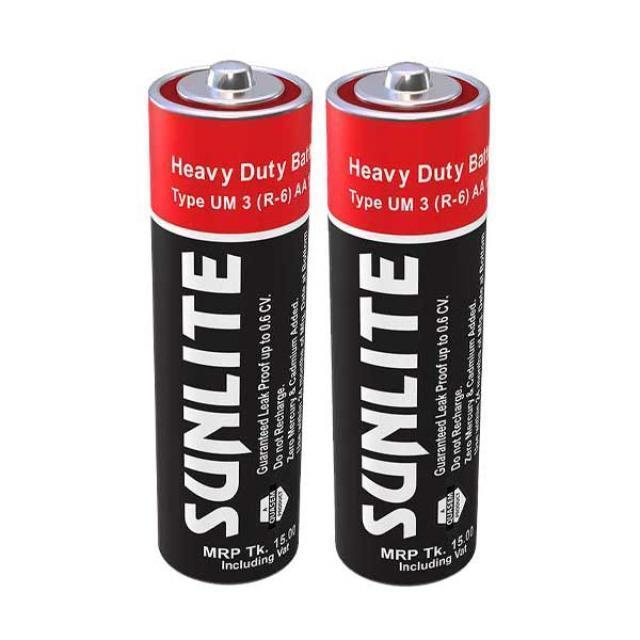Hazard: (145, 53, 317, 587), (323, 56, 494, 588)
